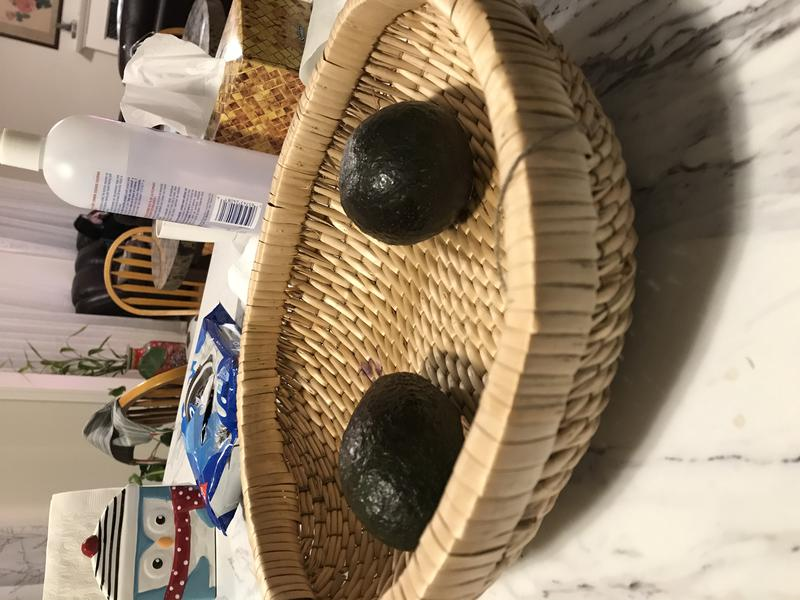avocado: (334, 368, 470, 561), (331, 94, 485, 250)
